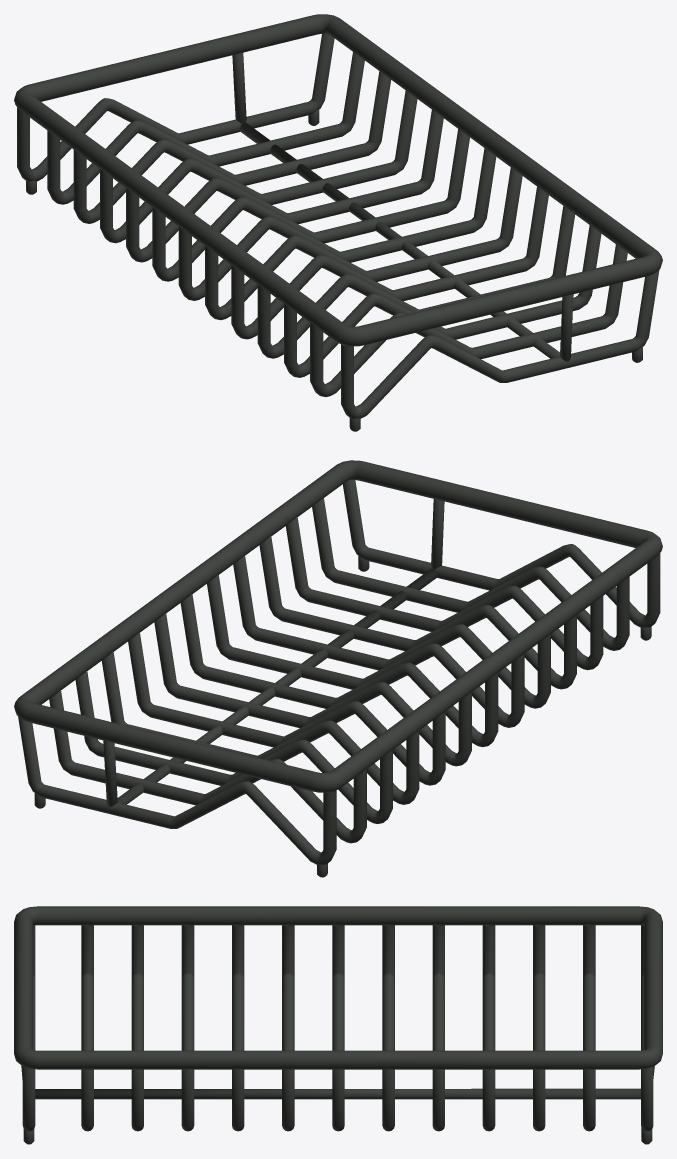
File: _rying_Rack.fbx
3 views of the same model, one above another, from view 1: azimuth 30°, elevation 25°; view 2: azimuth 150°, elevation 25°; view 3: azimuth 270°, elevation 25° (orthographic). The views are drawn at different scales.
Parts seen in each view (by area): view 1: Sphere.004; view 2: Sphere.004; view 3: Sphere.004.
Part boxes in pixels (x1,y1,x2,y2): Sphere.004: (14,14,662,431); Sphere.004: (14,460,662,877); Sphere.004: (14,906,662,1144).
Bounding box in the file's own units: 42.68 × 13.1 × 76.92.
